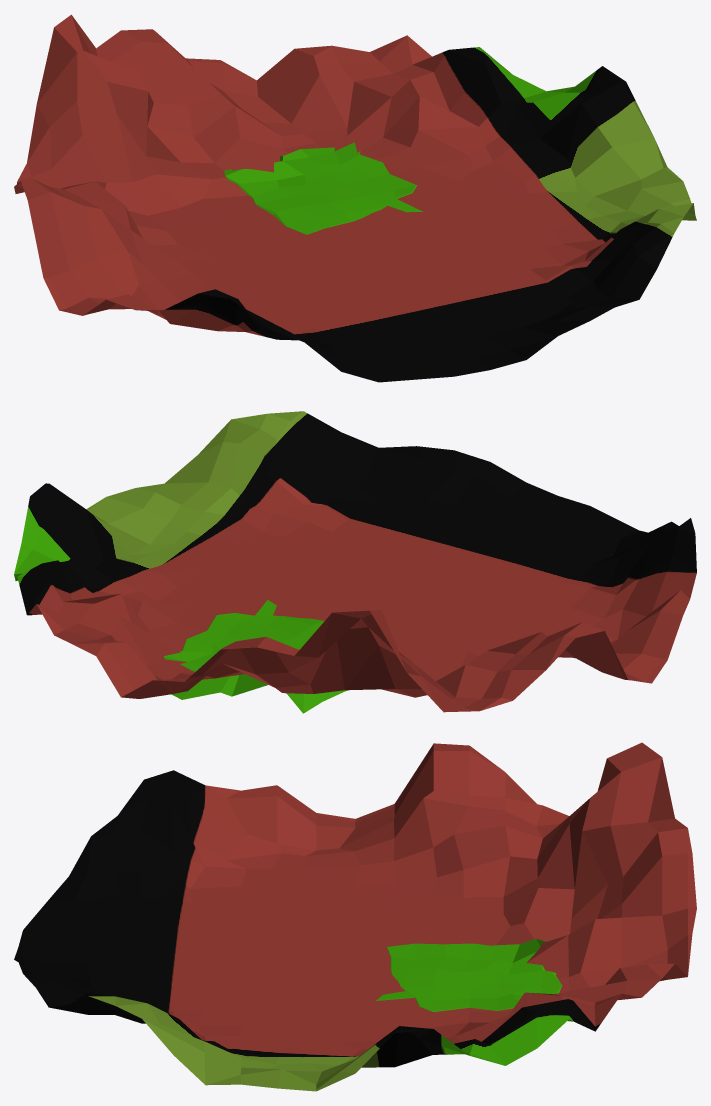
Rendered from Mars-One_map_terraforming_01_2.FBX.
3 views of the same model, one above another, from view 1: azimuth 30°, elevation 25°; view 2: azimuth 150°, elevation 25°; view 3: azimuth 270°, elevation 25° (orthographic).
Parts seen in each view (by area): view 1: Circle001; view 2: Circle001; view 3: Circle001.
Part boxes in pixels (bbox=[...]): Circle001: bbox=[14, 14, 696, 382]; Circle001: bbox=[14, 411, 696, 713]; Circle001: bbox=[14, 742, 696, 1091].
Size of the model in its own units: 413 by 107 by 414.
1 material, 1 textured.
